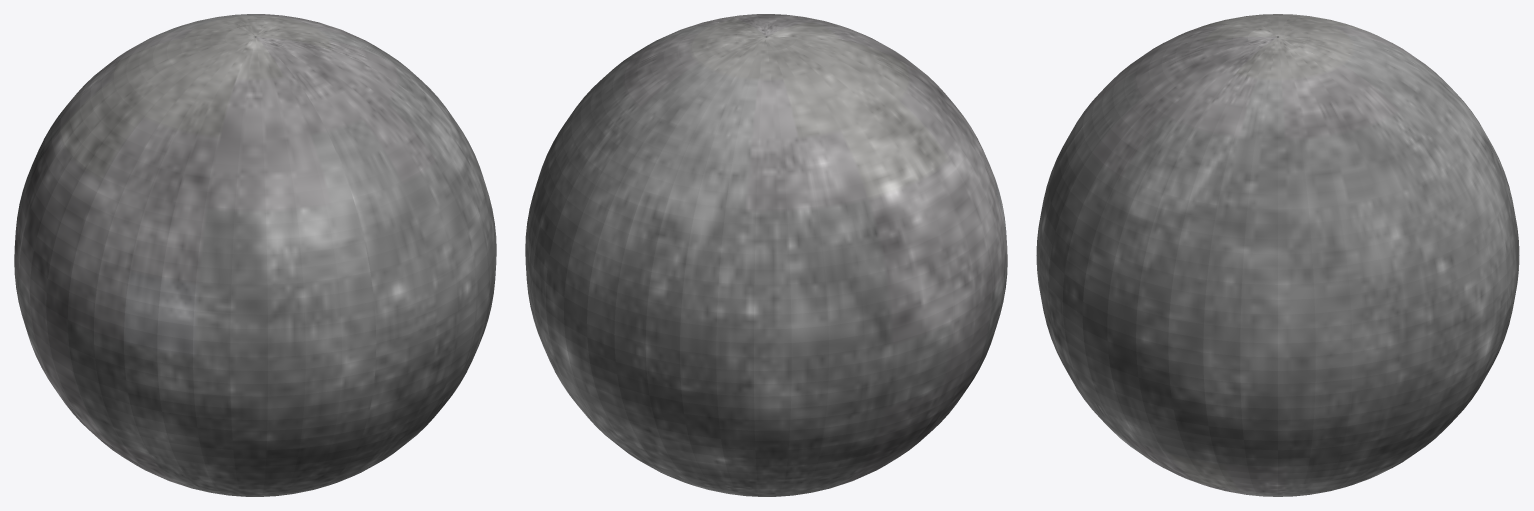
File: mercury.obj
3 views of the same model, side by side, from view 1: azimuth 30°, elevation 25°; view 2: azimuth 150°, elevation 25°; view 3: azimuth 270°, elevation 25° (orthographic).
Parts seen in each view (by area): view 1: Sphere; view 2: Sphere; view 3: Sphere.
Boxes of the visible parts, box(x1,y1,x2,y2) form: Sphere: box(14, 14, 496, 496); Sphere: box(525, 14, 1007, 496); Sphere: box(1036, 14, 1519, 496).
Bounding box in the file's own units: 2 × 2 × 2.
